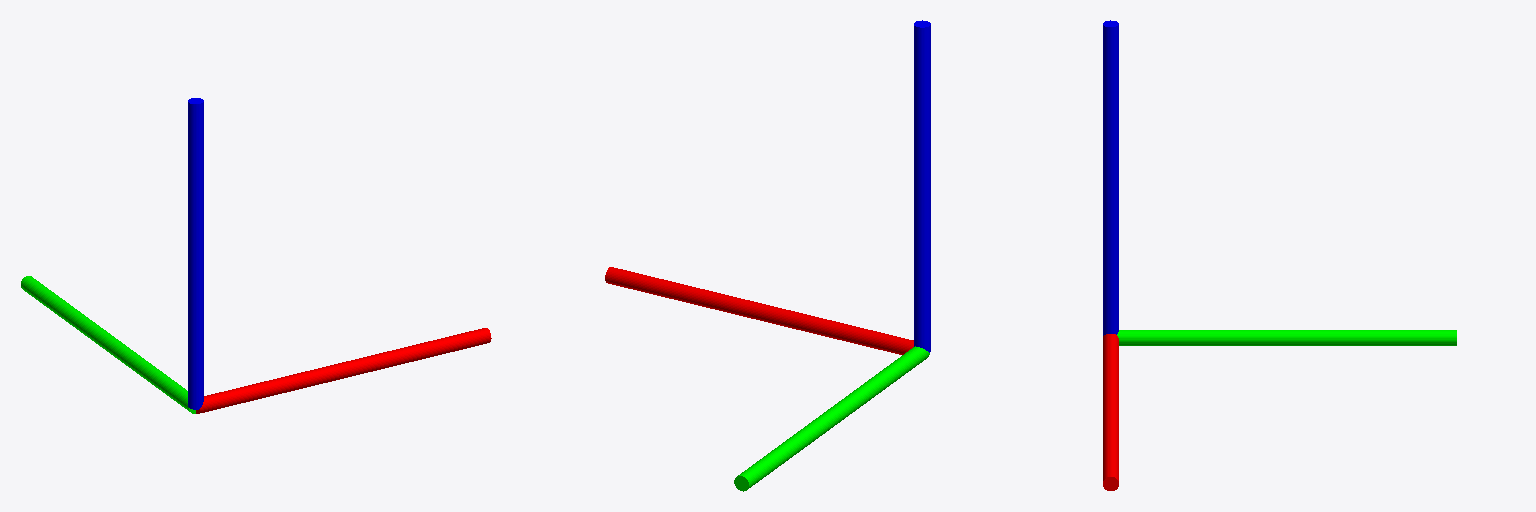
URDF robot description (coord_axis):
<robot name="coord_axis">
 <link name="base_link">
   <inertial>
      <origin rpy="0 0 0" xyz="0 0 0"/>
      <mass value=".1"/>
      <inertia ixx="0.010609" ixy="0" ixz="0" iyy="0.050409" iyz="0" izz="0.05865"/>
    </inertial>
  </link>
  <joint name="base_a" type="fixed">
    <origin rpy="0 0 0" xyz="0 0 0"/>
    <parent link="base_link"/>
    <child link="coord_axis_x"/>
  </joint>
  <link name="coord_axis_x">
    <contact>
      <lateral_friction value="0.2"/>
      <rolling_friction value="0.001"/>
      <contact_cfm value="0.0"/>
      <contact_erp value="1.0"/>
    </contact>
    <inertial>
      <origin rpy="0 0 0" xyz="0 0 0"/>
      <mass value="0.05"/>
      <inertia ixx="0" ixy="0" ixz="0" iyy="0" iyz="0" izz="0"/>
    </inertial>
    <collision>
      <origin rpy="0 0 0" xyz="0 0 0"/>
      <geometry>
        <mesh filename="coord_axis_x.obj" scale="1 1 1"/>
      </geometry>
    </collision>
    <visual>
      <origin rpy="0 0 0" xyz="0 0 0"/>
      <geometry>
        <mesh filename="coord_axis_x.obj" scale="1 1 1"/>
      </geometry>
      <material name="red">
        <color rgba="1 0 0 1"/>
      </material>
    </visual>
  </link>
  <joint name="base_b" type="fixed">
    <origin rpy="0 0 0" xyz="0 0 0"/>
    <parent link="base_link"/>
    <child link="coord_axis_y"/>
  </joint>
  <link name="coord_axis_y">
    <contact>
      <lateral_friction value="0.2"/>
      <rolling_friction value="0.001"/>
      <contact_cfm value="0.0"/>
      <contact_erp value="1.0"/>
    </contact>
    <inertial>
      <origin rpy="0 0 0" xyz="0 0 0"/>
      <mass value="0.05"/>
      <inertia ixx="0" ixy="0" ixz="0" iyy="0" iyz="0" izz="0"/>
    </inertial>
    <collision>
      <origin rpy="0 0 0" xyz="0 0 0"/>
      <geometry>
        <mesh filename="coord_axis_y.obj" scale="1 1 1"/>
      </geometry>
    </collision>
    <visual>
      <origin rpy="0 0 0" xyz="0 0 0"/>
      <geometry>
        <mesh filename="coord_axis_y.obj" scale="1 1 1"/>
      </geometry>
      <material name="green">
        <color rgba="0 1 0 1"/>
      </material>
    </visual>
  </link>
  <joint name="base_c" type="fixed">
    <origin rpy="0 0 0" xyz="0 0 0"/>
    <parent link="base_link"/>
    <child link="coord_axis_z"/>
  </joint>
  <link name="coord_axis_z">
    <contact>
      <lateral_friction value="0.2"/>
      <rolling_friction value="0.001"/>
      <contact_cfm value="0.0"/>
      <contact_erp value="1.0"/>
    </contact>
    <inertial>
      <origin rpy="0 0 0" xyz="0 0 0"/>
      <mass value="0.05"/>
      <inertia ixx="0" ixy="0" ixz="0" iyy="0" iyz="0" izz="0"/>
    </inertial>
    <collision>
      <origin rpy="0 0 0" xyz="0 0 0"/>
      <geometry>
        <mesh filename="coord_axis_z.obj" scale="1 1 1"/>
      </geometry>
    </collision>
    <visual>
      <origin rpy="0 0 0" xyz="0 0 0"/>
      <geometry>
        <mesh filename="coord_axis_z.obj" scale="1 1 1"/>
      </geometry>
      <material name="white">
        <color rgba="0 0 1 1"/>
      </material>
    </visual>
  </link>
</robot>

--- Render facts (derived) ---
3 views of the same robot in one strip: view 1: azimuth 30°, elevation 25°; view 2: azimuth 150°, elevation 25°; view 3: azimuth 270°, elevation 25° (orthographic).
Model coord_axis with 4 links and 3 joints (3 fixed), rooted at base_link, posed every joint at zero.
Visible links, largest first — view 1: coord_axis_z, coord_axis_x, coord_axis_y; view 2: coord_axis_z, coord_axis_x, coord_axis_y; view 3: coord_axis_y, coord_axis_z, coord_axis_x.
Boxes of the visible links, x1,y1,x2,y2 form: coord_axis_z: (188,98,203,409); coord_axis_x: (196,328,491,413); coord_axis_y: (21,276,195,413); coord_axis_z: (914,20,930,352); coord_axis_x: (605,267,913,354); coord_axis_y: (734,346,929,491); coord_axis_y: (1117,330,1456,345); coord_axis_z: (1103,20,1118,335); coord_axis_x: (1103,334,1118,490).
Bounding box of the posed robot: 0.13 × 0.13 × 0.13 m (x, y, z).
Meshes: 3 distinct files referenced, 3 mesh visuals loaded (3 OBJ).